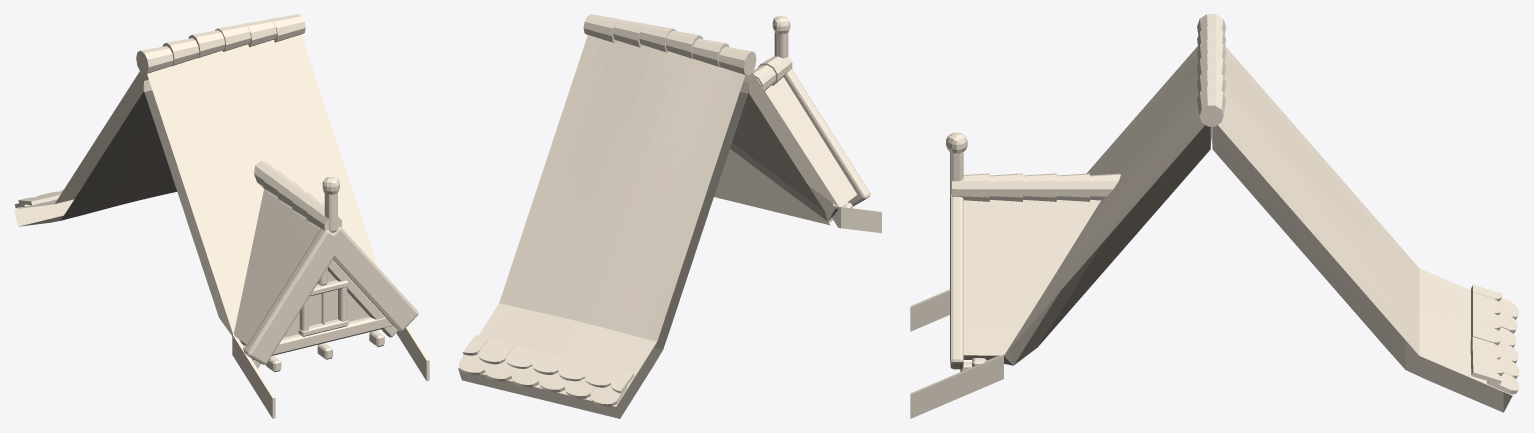
The model's file is SM_VK_Roof_CrossGable.fbx.
3 renders of one model, left to right at view 1: azimuth 30°, elevation 25°; view 2: azimuth 150°, elevation 25°; view 3: azimuth 270°, elevation 25°, orthographic. The views are drawn at different scales.
Parts seen in each view (by area): view 1: SM_VK_Roof_CrossGable.001; view 2: SM_VK_Roof_CrossGable.001; view 3: SM_VK_Roof_CrossGable.001.
Part boxes in pixels (x1=…): SM_VK_Roof_CrossGable.001: x1=14, y1=14, x2=429, y2=418; SM_VK_Roof_CrossGable.001: x1=458, y1=14, x2=881, y2=418; SM_VK_Roof_CrossGable.001: x1=910, y1=14, x2=1519, y2=418.
Bounding box in the file's own units: 3.31 × 5.09 × 8.8.
